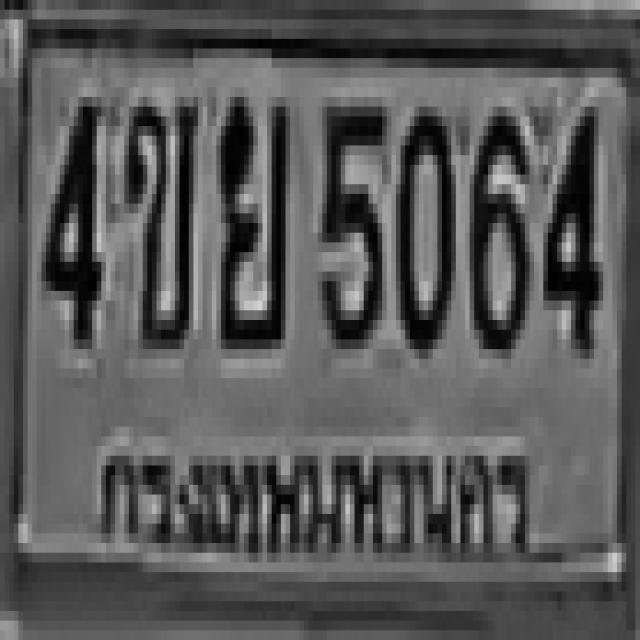0: (392, 97, 452, 349)
11KhorKhai: (120, 88, 193, 340)
4: (37, 92, 97, 335), (539, 97, 594, 349)
43YorYak: (217, 88, 286, 340)
5: (318, 97, 382, 339)
6: (465, 107, 525, 349)
Bangkok: (92, 422, 542, 576)
